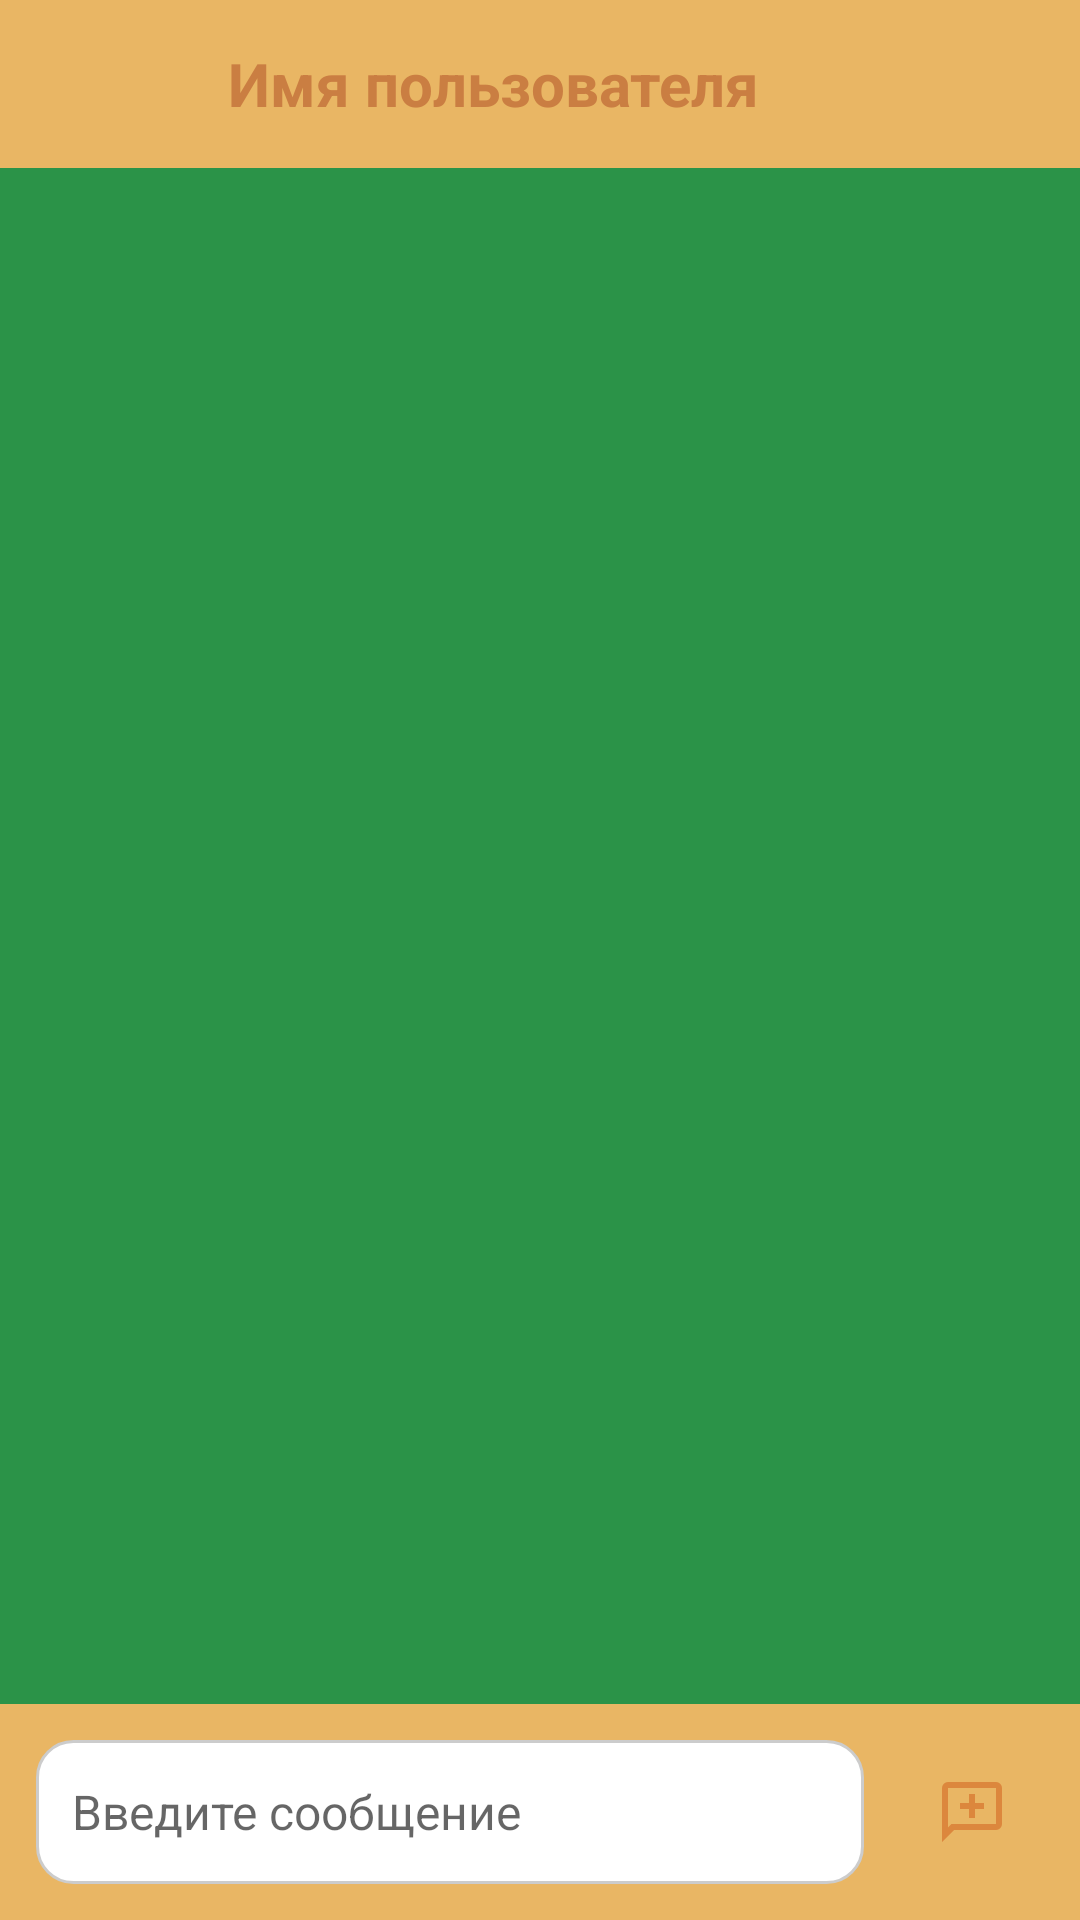

Named icons in this screenshot (1080px×1920px) and their bounding boxes, [left=x1, top=y1, right=x2, bottom=y2]:
Отправить сообщение: [left=942, top=1782, right=1002, bottom=1842]
